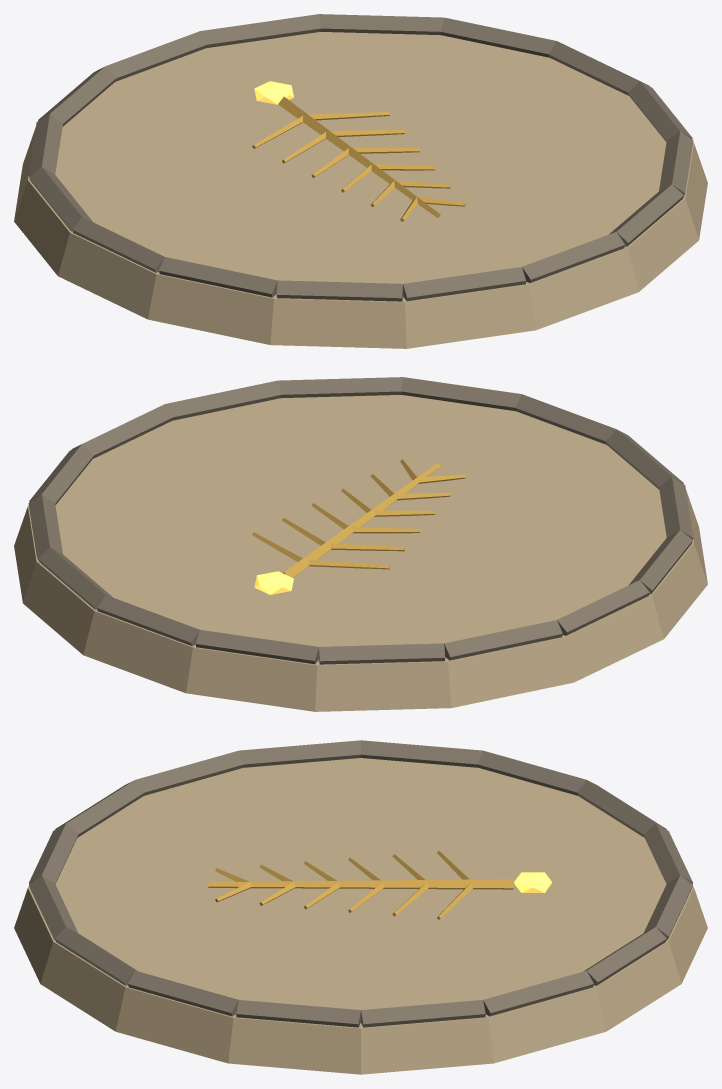
File: plateforme.glb
The picture shows the model from 3 angles, top to bottom: view 1: azimuth 30°, elevation 25°; view 2: azimuth 150°, elevation 25°; view 3: azimuth 270°, elevation 25°; orthographic projection.
Parts seen in each view (by area): view 1: plateforme; view 2: plateforme; view 3: plateforme.
Part boxes in pixels (x1,y1,x2,y2): plateforme: (14,14,707,348); plateforme: (14,377,707,711); plateforme: (14,740,707,1074).
Bounding box in the file's own units: 2.5 × 0.212 × 2.5.
